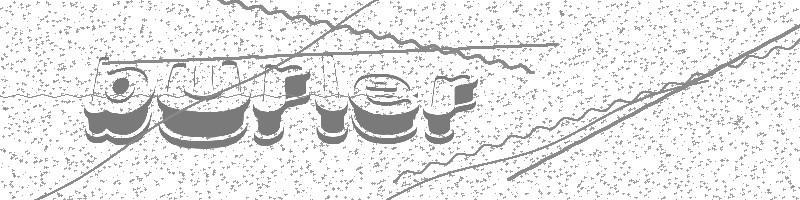b: (82, 55, 156, 145)
e: (349, 68, 420, 144)
l: (313, 52, 348, 145)
r: (253, 63, 312, 148), (422, 74, 479, 145)
u: (157, 62, 251, 150)
